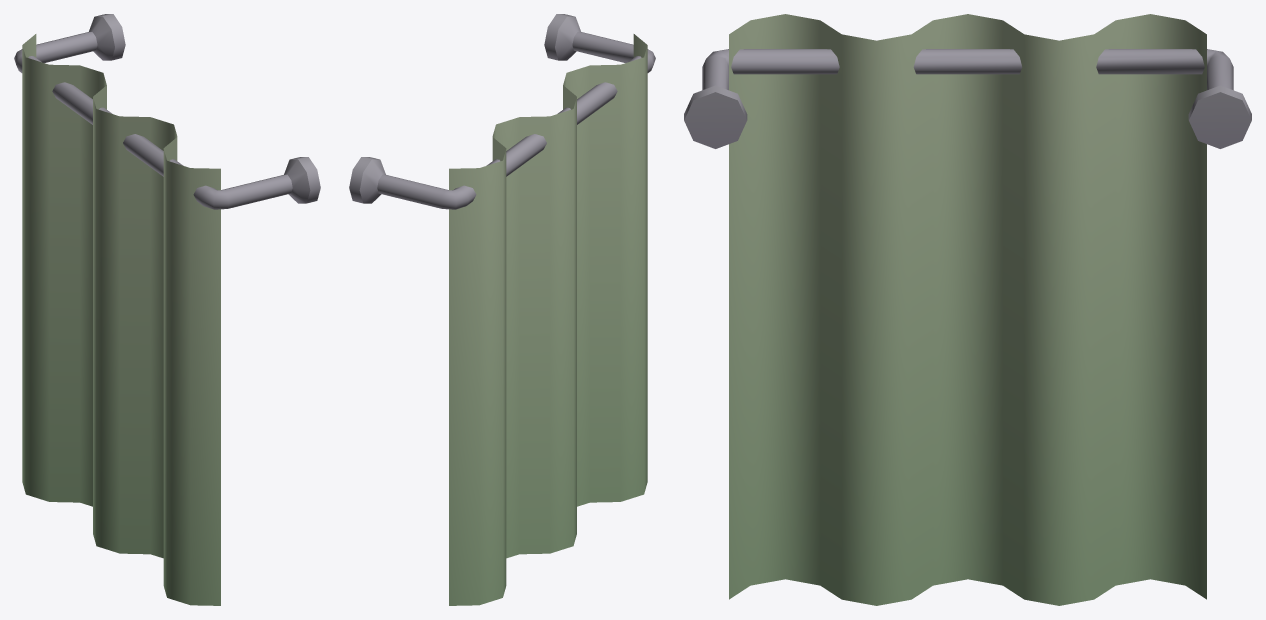
The model's file is curtain-narrow-short-closed (%wall).glb.
The picture shows the model from 3 angles, left to right: view 1: azimuth 30°, elevation 25°; view 2: azimuth 150°, elevation 25°; view 3: azimuth 270°, elevation 25°; orthographic projection. The views are drawn at different scales.
Visible parts, largest first — view 1: curtain-narrow-short-closed (%wall); view 2: curtain-narrow-short-closed (%wall); view 3: curtain-narrow-short-closed (%wall).
Boxes of the visible parts, x1,y1,x2,y2 form: curtain-narrow-short-closed (%wall): (14,14,320,605); curtain-narrow-short-closed (%wall): (349,14,655,605); curtain-narrow-short-closed (%wall): (684,14,1251,605).
Bounding box in the file's own units: 0.2713 × 0.9887 × 0.9.
